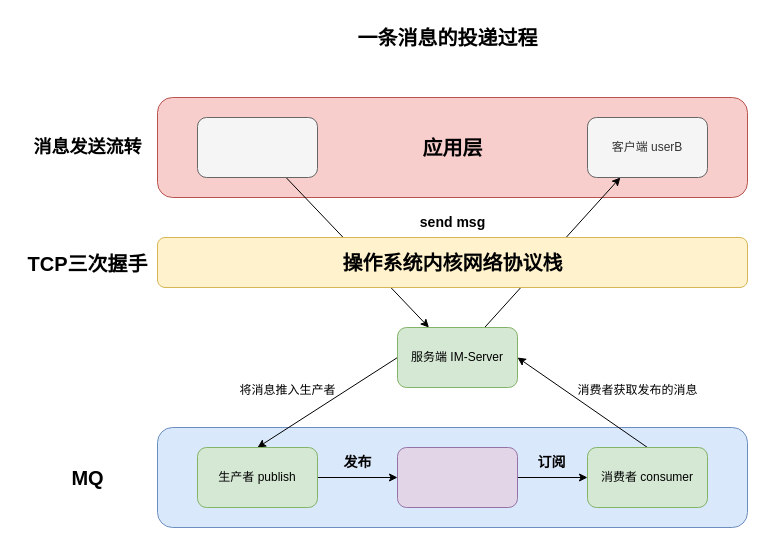
This 765x545 diagram has some shape labels left out. The shapes that lost their labels are listed below. From the top down, each one's centre as x and y in pixels, then its label:
At (257,147): "客户端 userA".
At (457,477): "MQ queue = MessageServer2Im".
